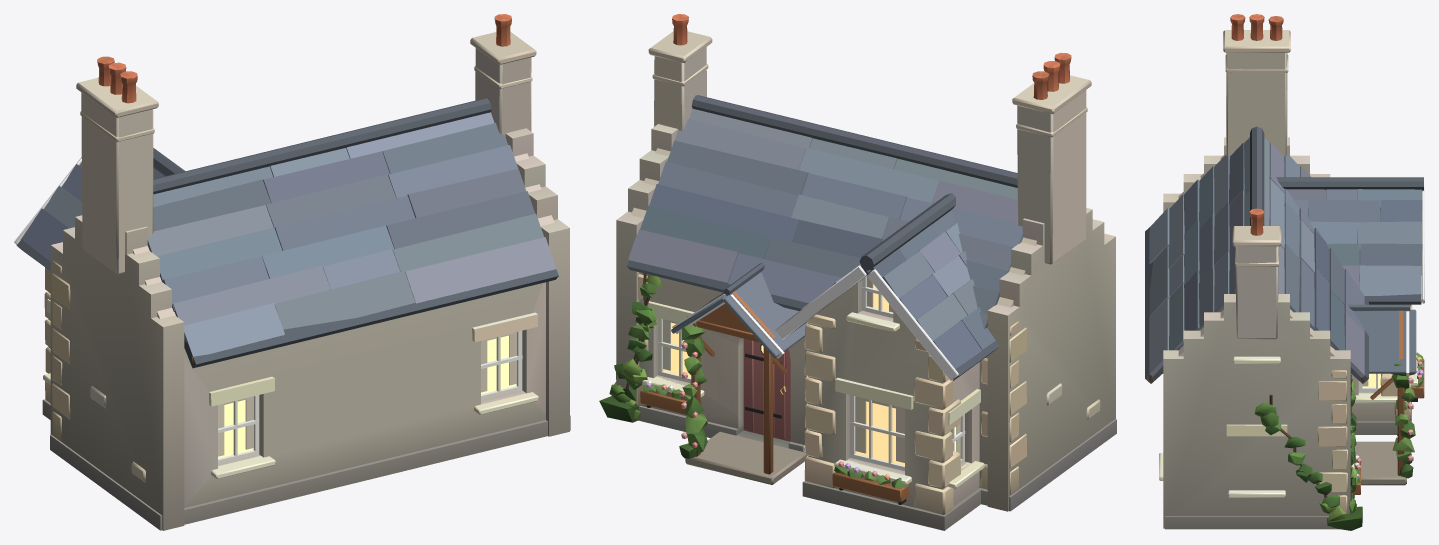
The model's file is cottage-hero-b.glb.
The picture shows the model from 3 angles, left to right: view 1: azimuth 30°, elevation 25°; view 2: azimuth 150°, elevation 25°; view 3: azimuth 270°, elevation 25°; orthographic projection. The views are drawn at different scales.
Visible parts, largest first — view 1: cottage-hero-b; view 2: cottage-hero-b; view 3: cottage-hero-b.
Boxes of the visible parts, <box> form: cottage-hero-b: <box>14,14,570,530</box>; cottage-hero-b: <box>599,14,1116,530</box>; cottage-hero-b: <box>1145,14,1424,530</box>.
Bounding box in the file's own units: 4.9 × 4.59 × 3.32.
